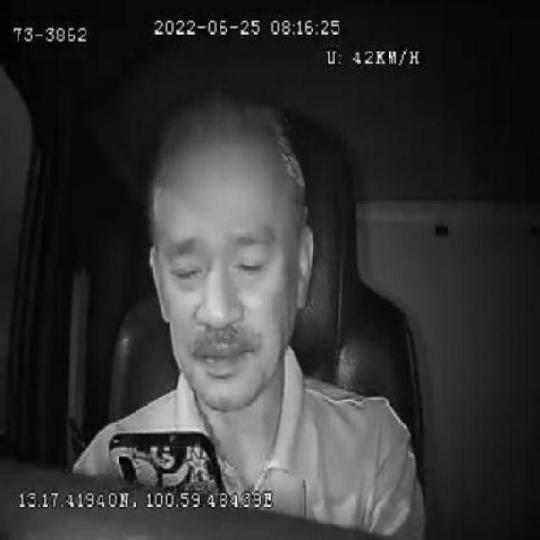phone: (108, 427, 227, 494)
